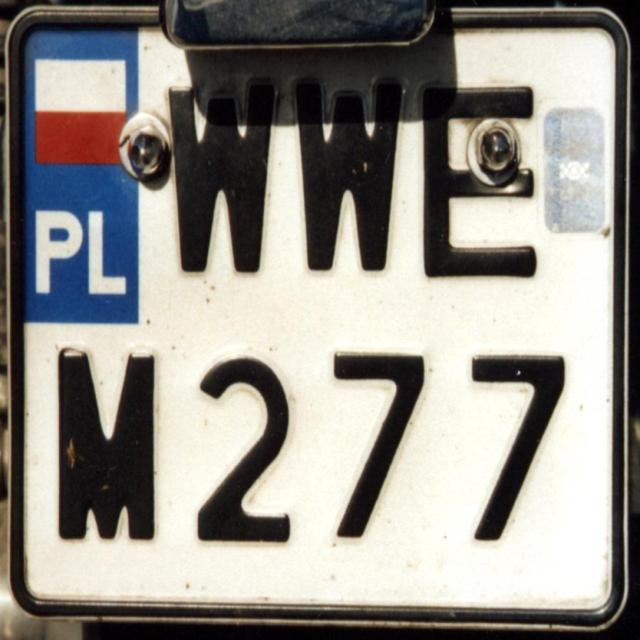pl_license_plate: (15, 13, 616, 620)
